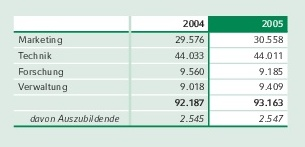table: (0, 0, 305, 147)
